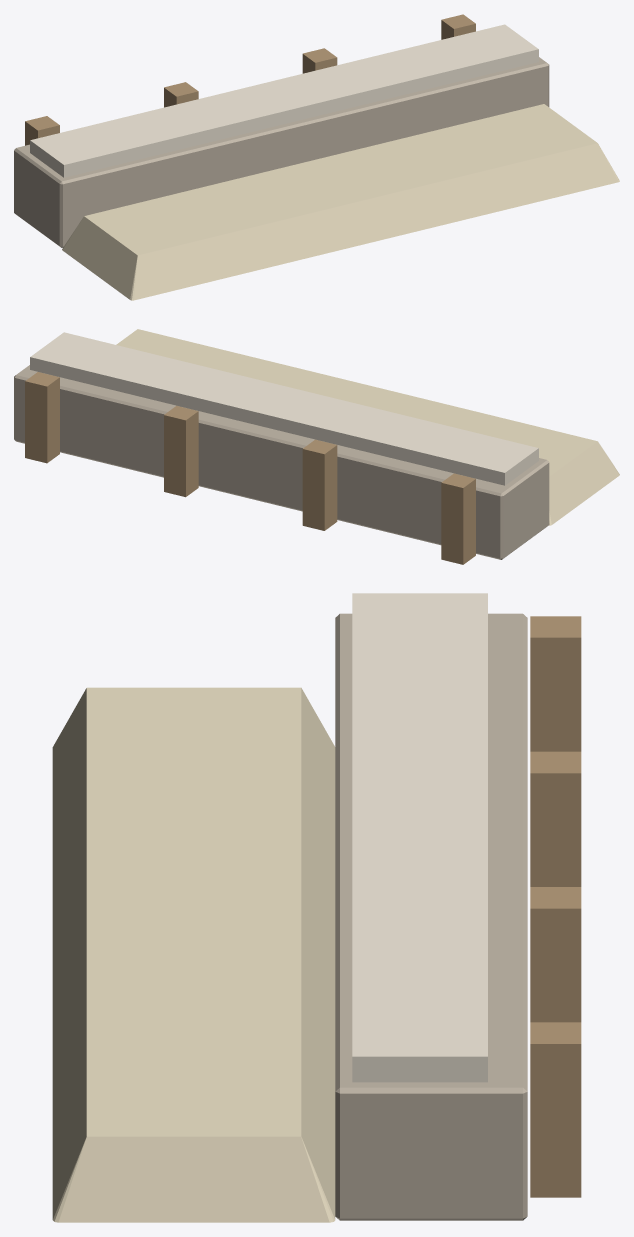
Rendered from roman-bathhouse-and-palaestra-wrestling-pit-kerb-run-6f12b24f__37905.glb.
3 renders of one model, top to bottom at view 1: azimuth 30°, elevation 25°; view 2: azimuth 150°, elevation 25°; view 3: azimuth 270°, elevation 25°, orthographic. The views are drawn at different scales.
Visible parts, largest first — view 1: wrestling-pit-kerb-run; view 2: wrestling-pit-kerb-run; view 3: wrestling-pit-kerb-run.
Part boxes in pixels (box(x1,y1,x2,y2)): wrestling-pit-kerb-run: box(14, 14, 619, 300); wrestling-pit-kerb-run: box(14, 329, 619, 564); wrestling-pit-kerb-run: box(52, 593, 581, 1222).
Bounding box in the file's own units: 2 × 0.31 × 0.9351.
